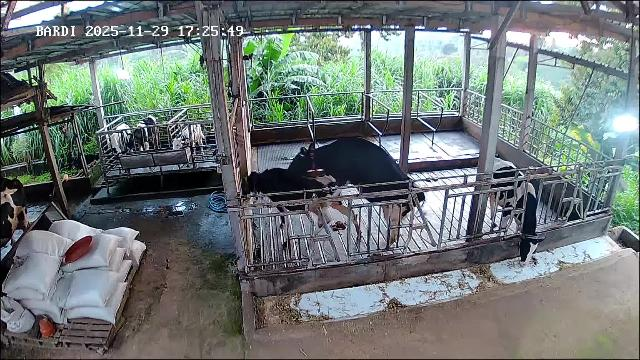mounting: (288, 139, 418, 246)
